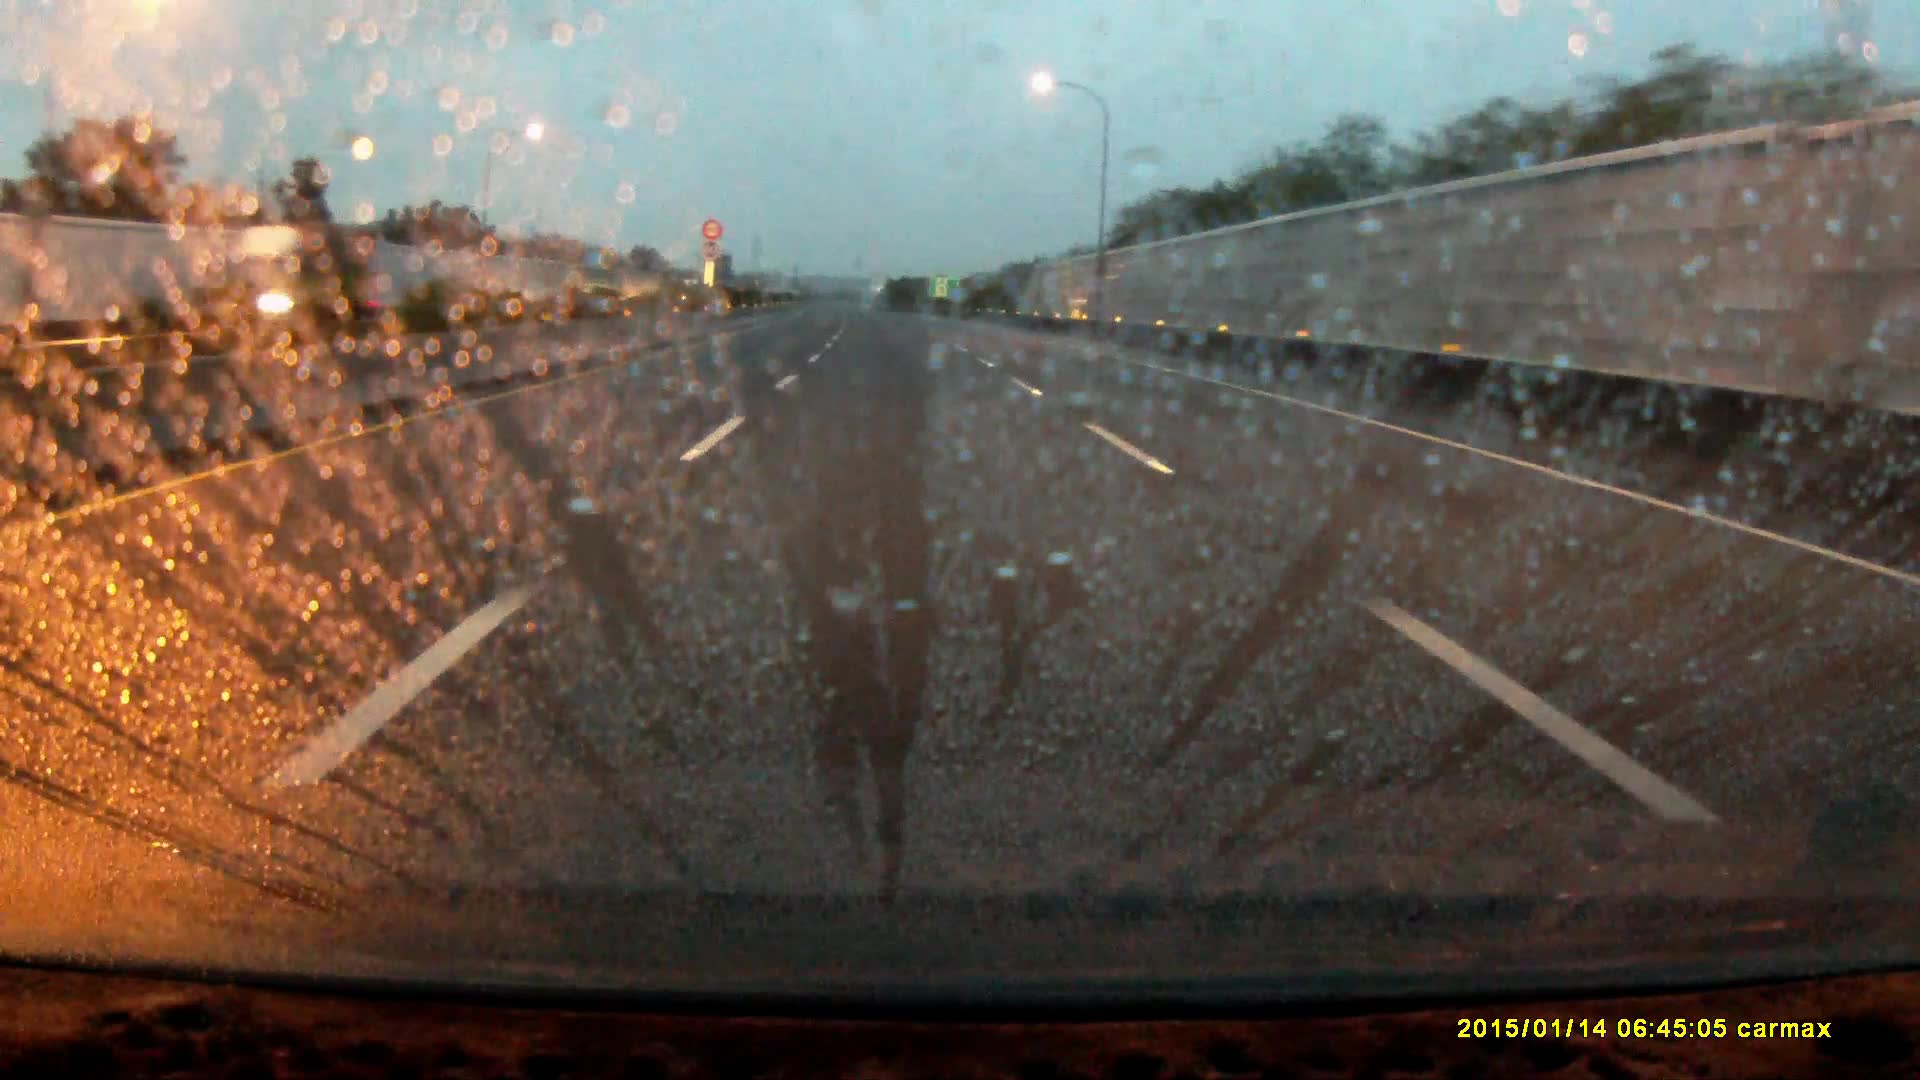vehicle: (222, 218, 377, 327)
